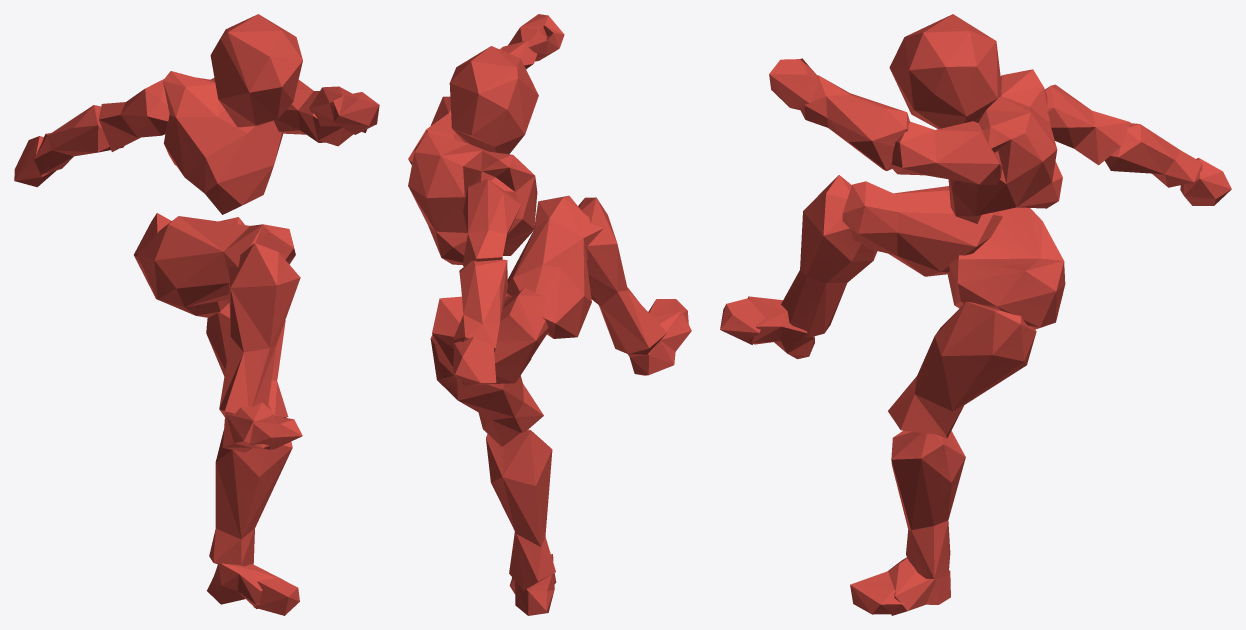
File: 2dancer0161.obj
3 renders of one model, left to right at view 1: azimuth 30°, elevation 25°; view 2: azimuth 150°, elevation 25°; view 3: azimuth 270°, elevation 25°, orthographic. The views are drawn at different scales.
Visible parts, largest first — view 1: Beta_Surface; view 2: Beta_Surface; view 3: Beta_Surface.
Part boxes in pixels (x1=…): Beta_Surface: x1=14, y1=14, x2=379, y2=615; Beta_Surface: x1=408, y1=14, x2=691, y2=615; Beta_Surface: x1=720, y1=14, x2=1231, y2=615.
Bounding box in the file's own units: 0.6545 × 1.75 × 1.37.
